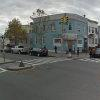Traffic light: (58, 10, 72, 31)
